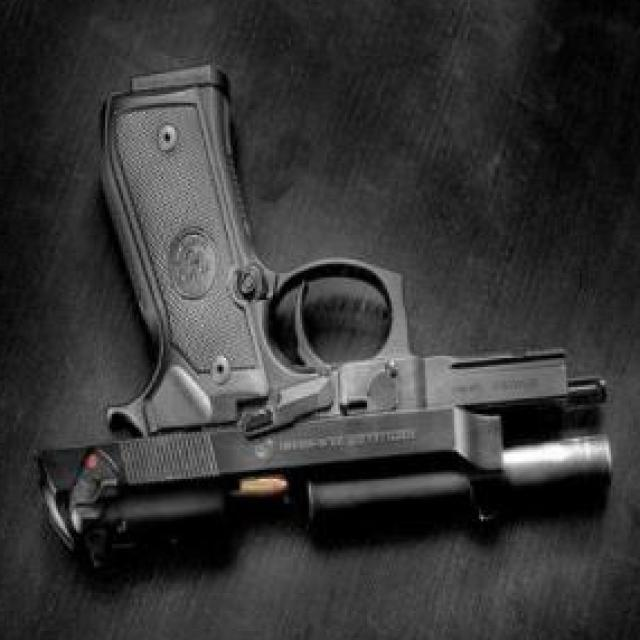pistol: (35, 49, 615, 548)
